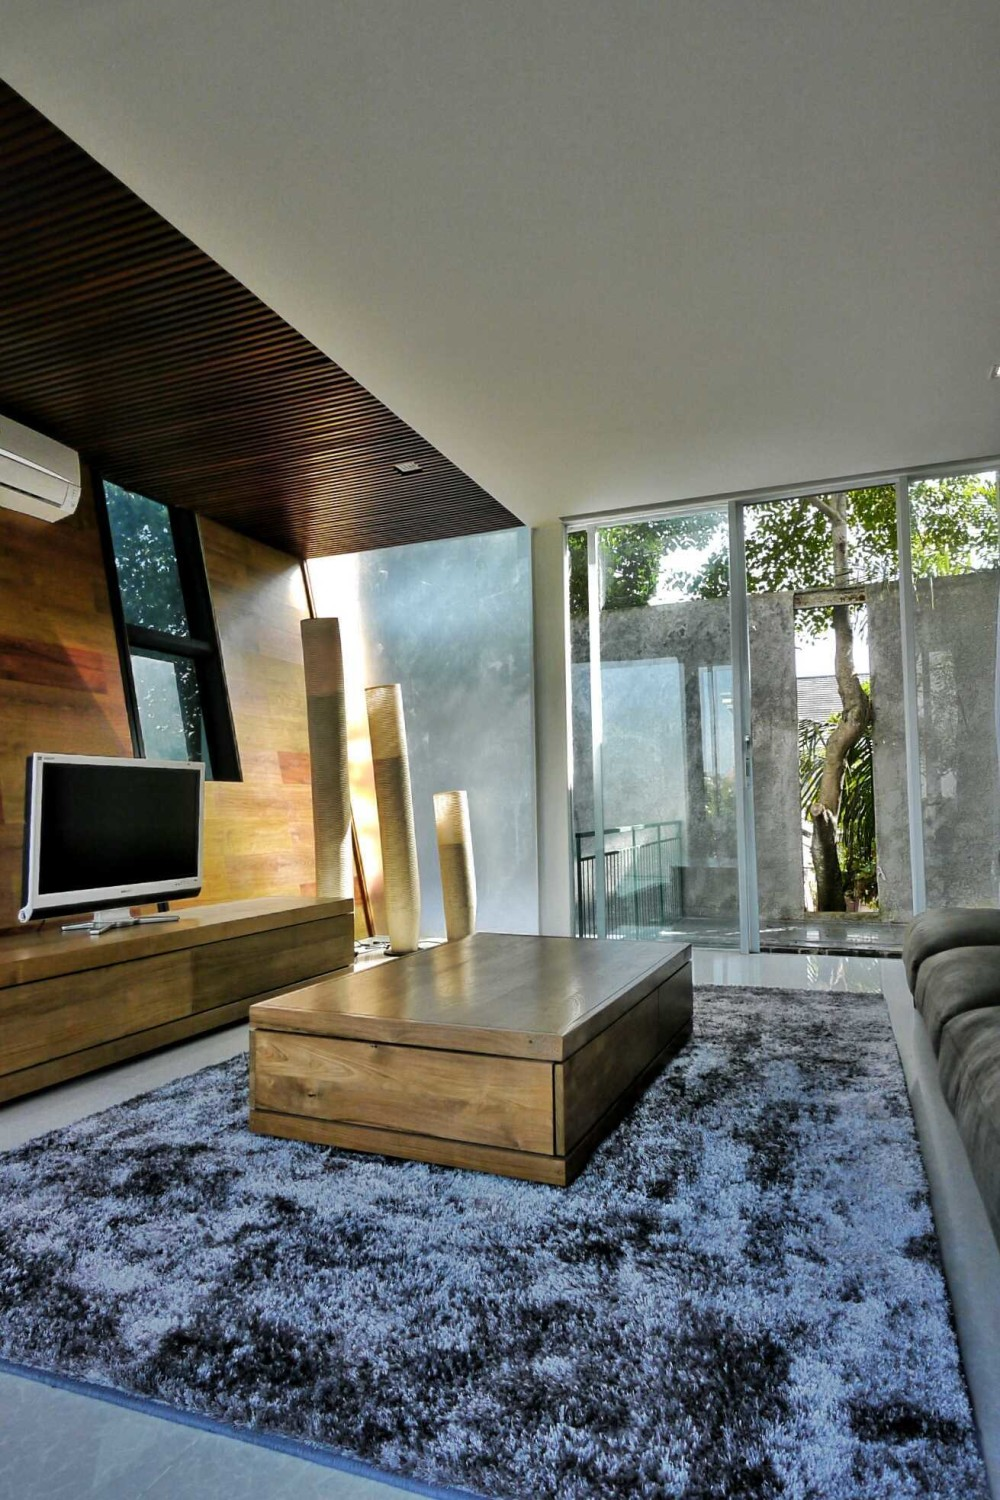meja: (244, 926, 714, 1181)
tv: (23, 748, 209, 898)
